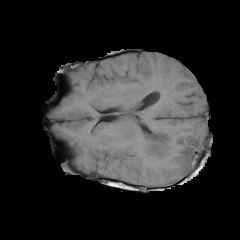glioma: (137, 123, 205, 179)
